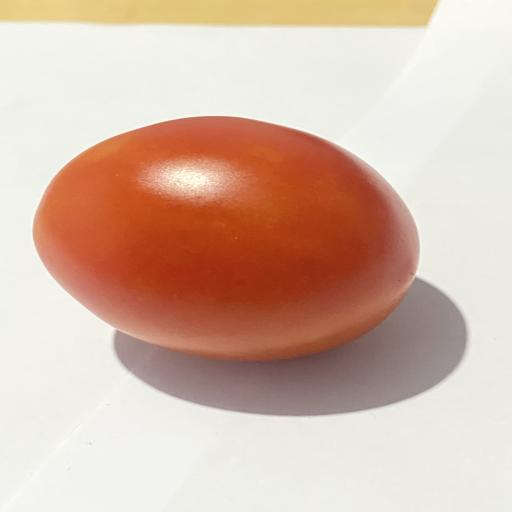ripe: (33, 116, 419, 361)
